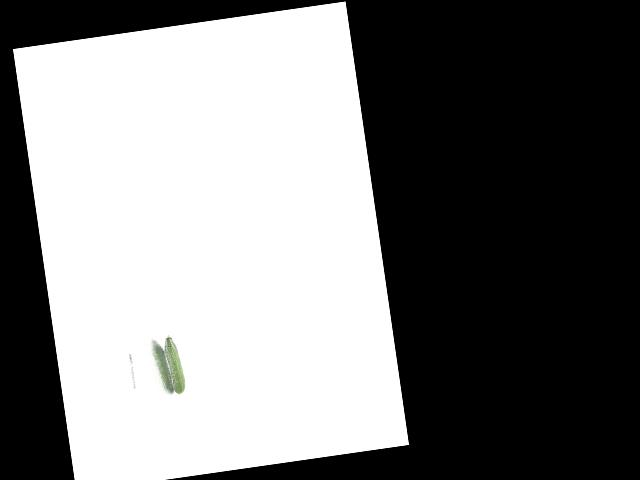cucumber: (162, 333, 186, 394)
